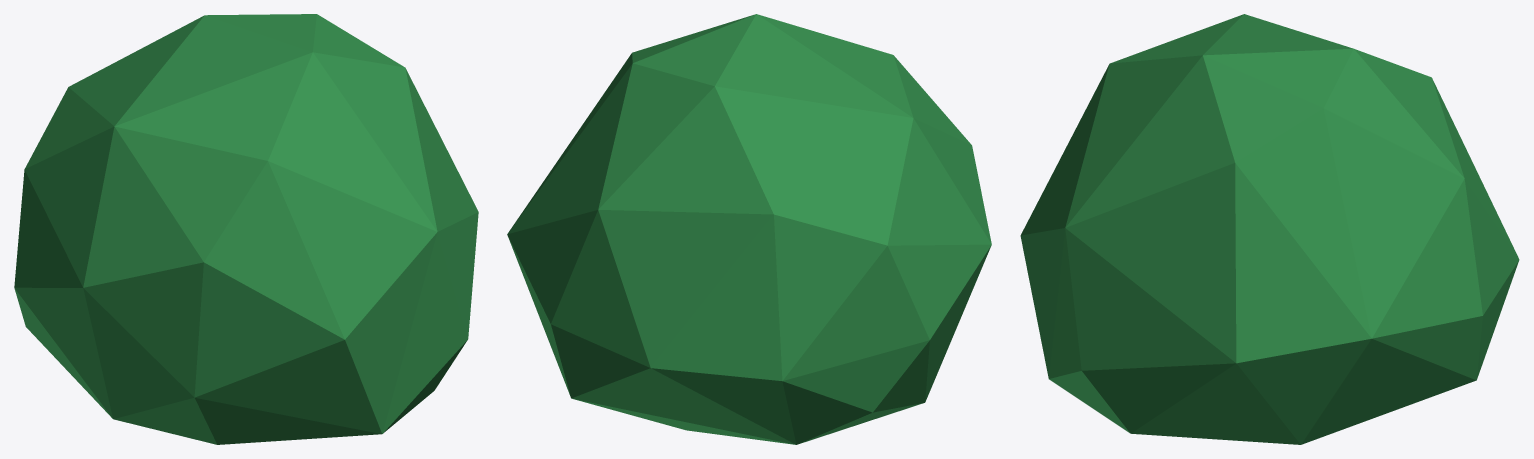
File: floresta_bush_medium.glb
3 views of the same model, side by side, from view 1: azimuth 30°, elevation 25°; view 2: azimuth 150°, elevation 25°; view 3: azimuth 270°, elevation 25° (orthographic).
Visible parts, largest first — view 1: Bush middle f; view 2: Bush middle f; view 3: Bush middle f.
Boxes of the visible parts, bbox=[...] form: Bush middle f: bbox=[14, 14, 478, 444]; Bush middle f: bbox=[507, 14, 991, 444]; Bush middle f: bbox=[1020, 14, 1519, 444].
Size of the model in its own units: 2.92 by 2.34 by 2.99.
